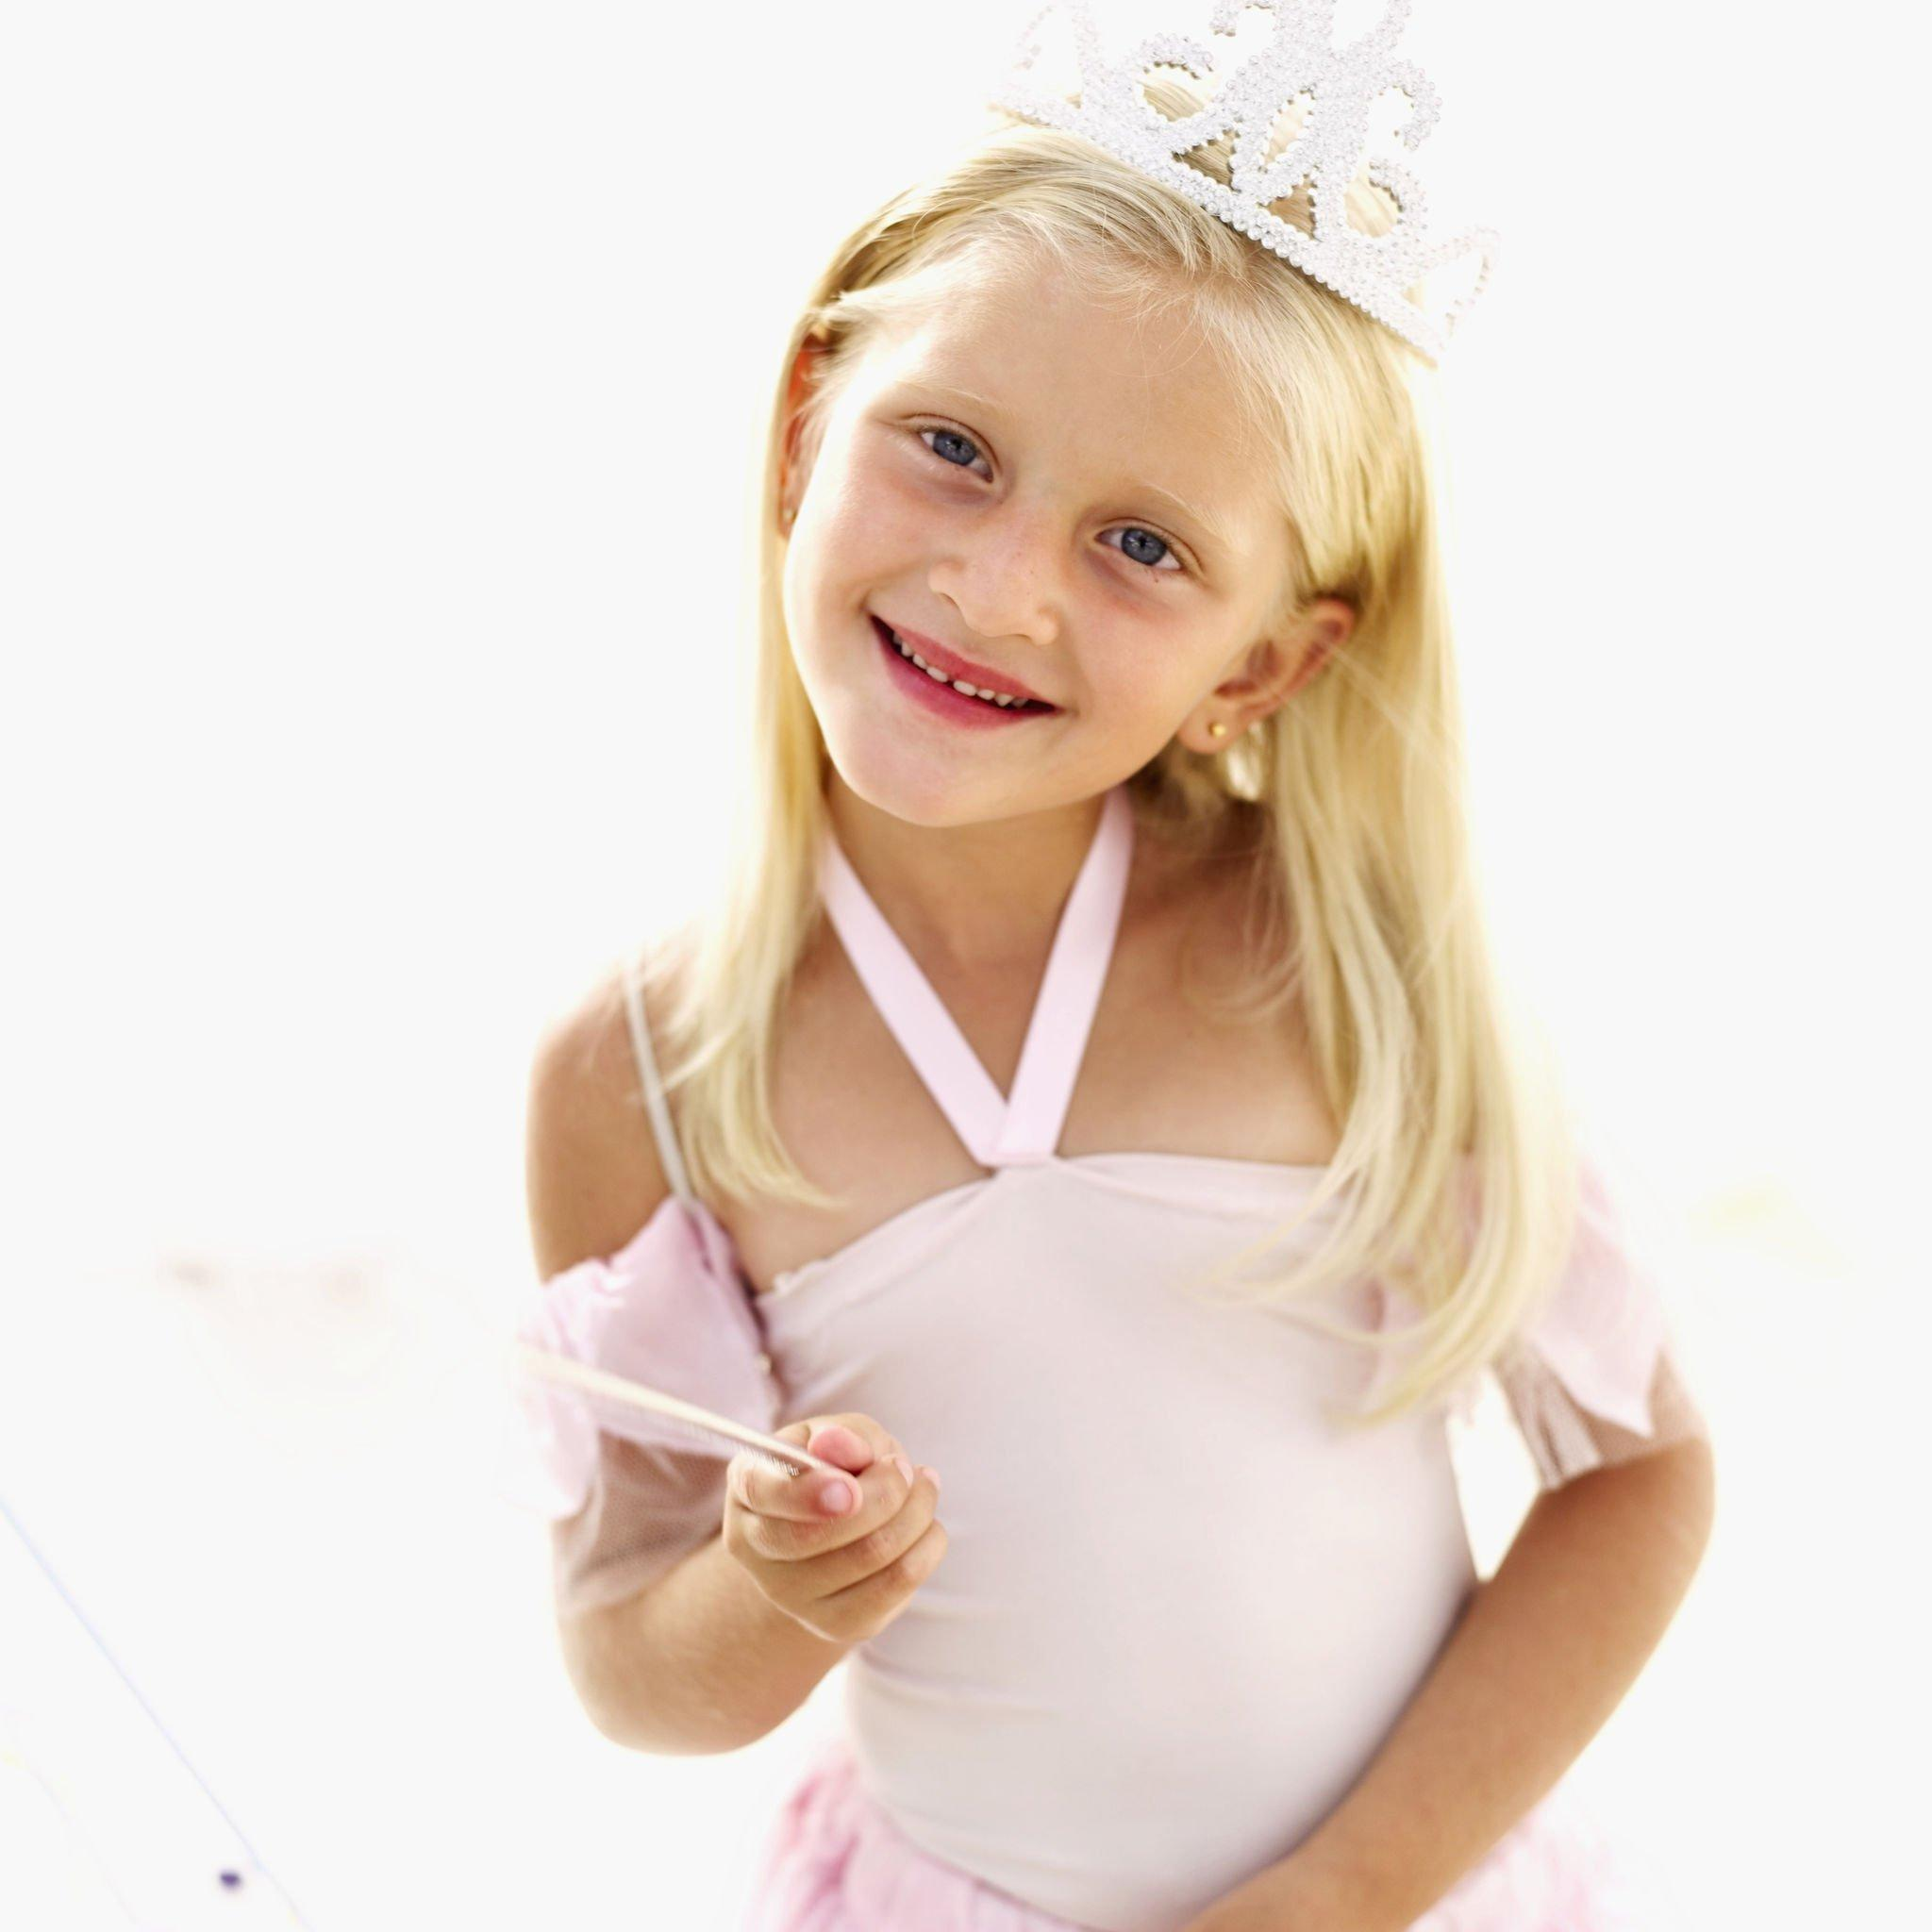Healthy: (747, 262, 1276, 920)
